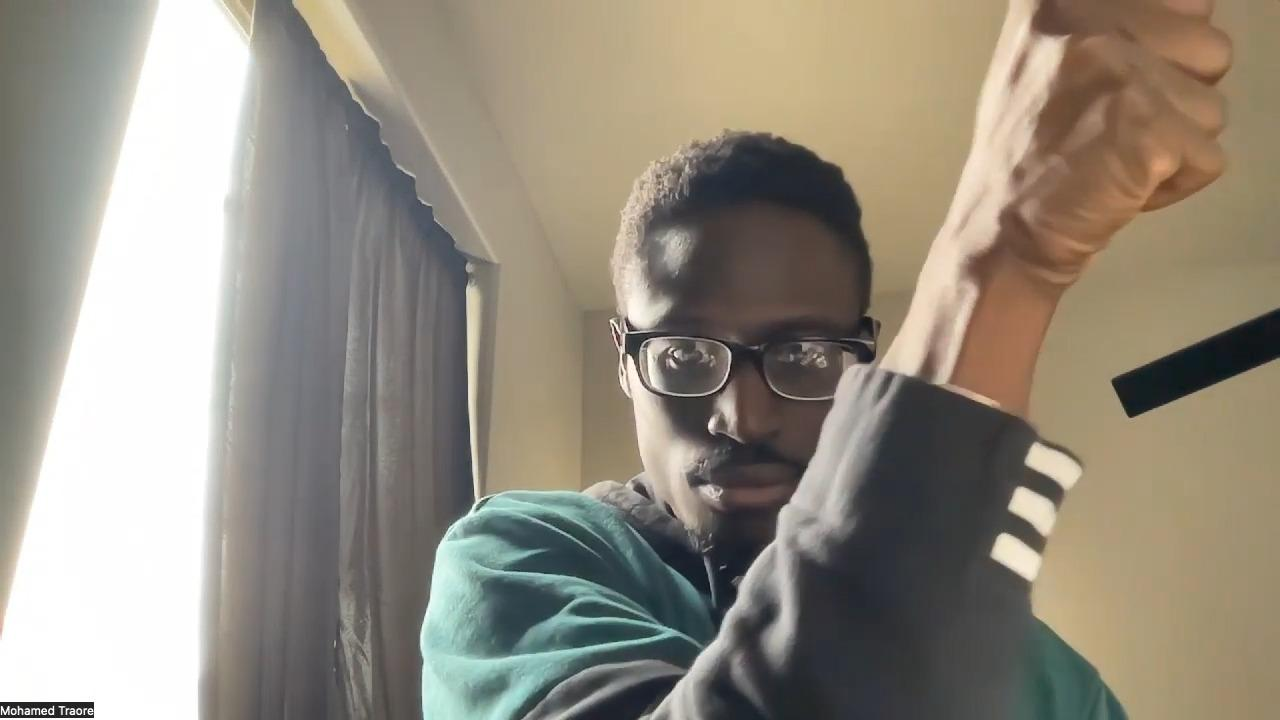Rock: (975, 0, 1231, 288)
